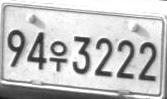2: (137, 41, 157, 82), (116, 39, 135, 80), (94, 37, 113, 77)
3: (72, 35, 91, 74)
4: (26, 32, 47, 70)
9: (6, 28, 25, 67)
우: (49, 39, 68, 72)
